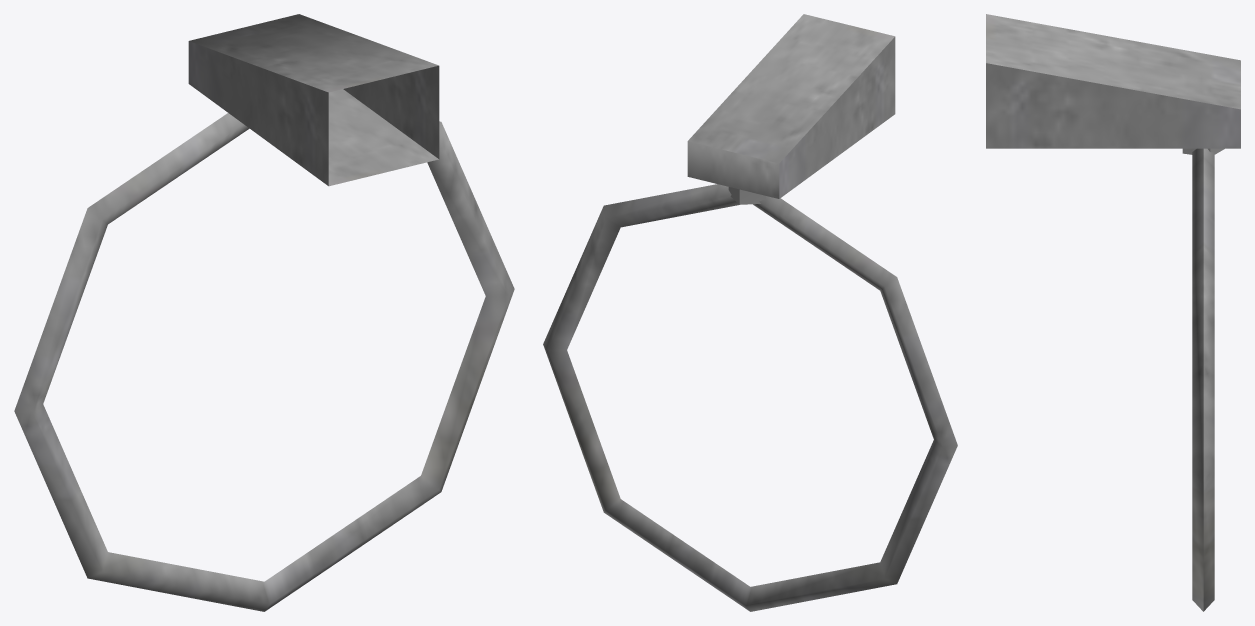
Rendered from Shelf_08.glb.
3 renders of one model, left to right at view 1: azimuth 30°, elevation 25°; view 2: azimuth 150°, elevation 25°; view 3: azimuth 270°, elevation 25°, orthographic. The views are drawn at different scales.
Parts seen in each view (by area): view 1: Shelf_08; view 2: Shelf_08; view 3: Shelf_08.
Part boxes in pixels (x1=…): Shelf_08: x1=14, y1=14, x2=514, y2=611; Shelf_08: x1=543, y1=14, x2=957, y2=611; Shelf_08: x1=986, y1=14, x2=1240, y2=611.
Bounding box in the file's own units: 0.3257 × 0.3859 × 0.1579.
Materials: 1 (1 with a texture image).
